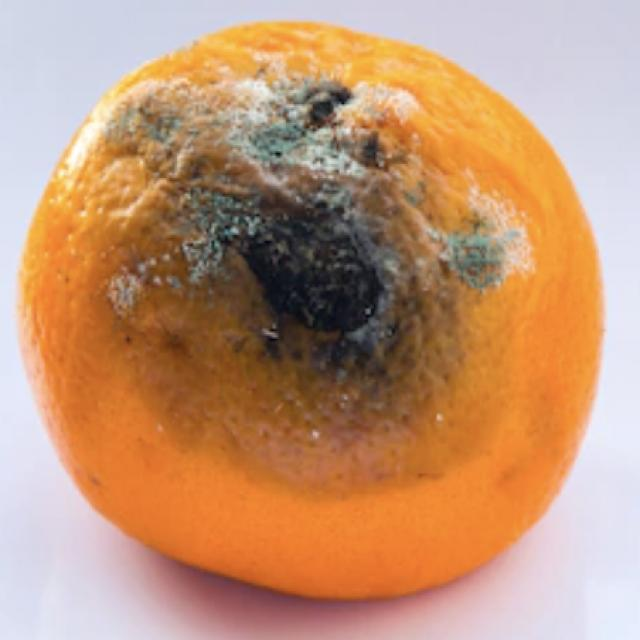rotten-orange: (16, 19, 606, 604)
